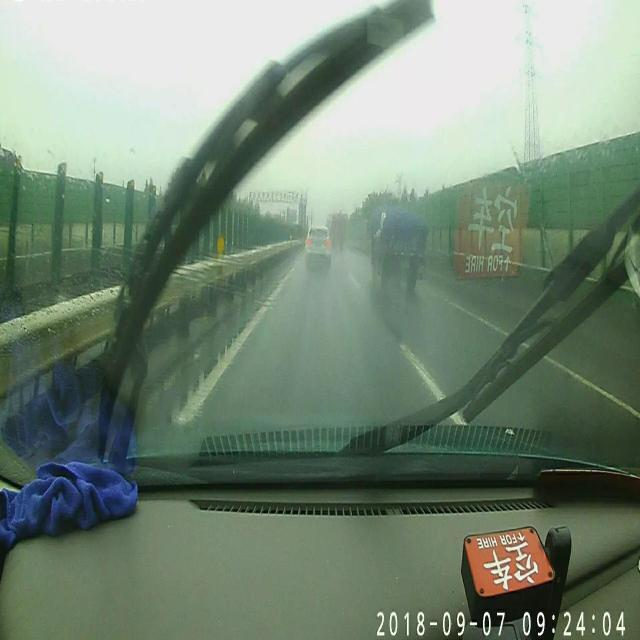car: (306, 224, 331, 260)
